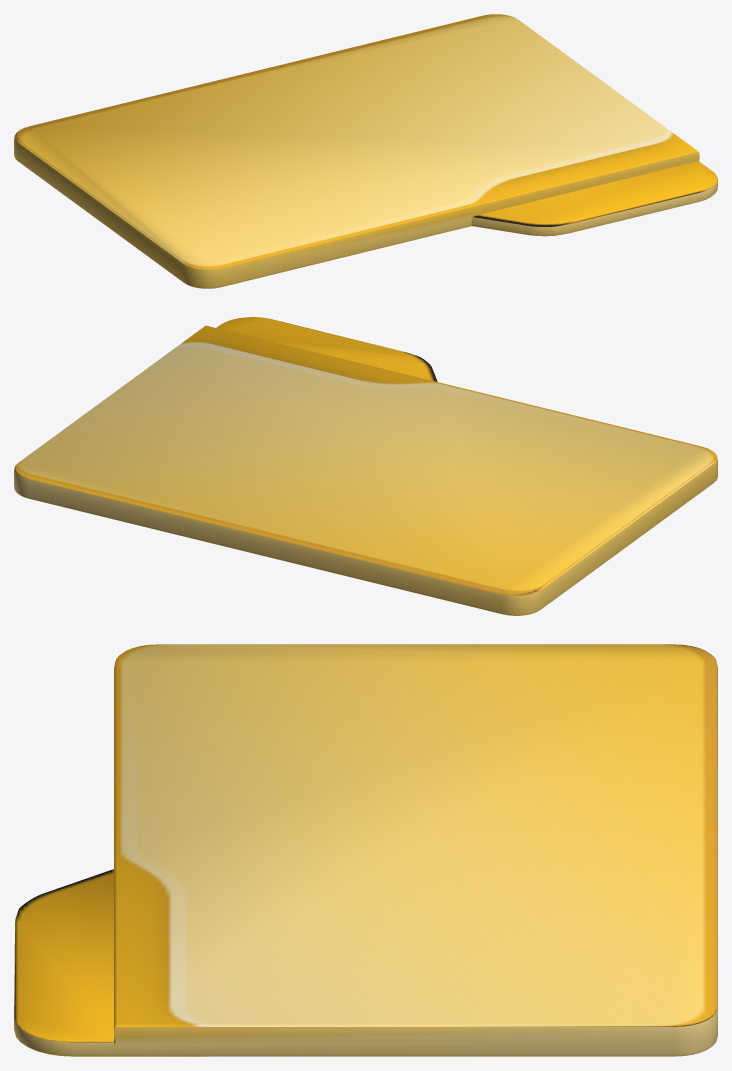
File: Papka.fbx
3 views of the same model, one above another, from view 1: azimuth 30°, elevation 25°; view 2: azimuth 150°, elevation 25°; view 3: azimuth 270°, elevation 25° (orthographic). The views are drawn at different scales.
Parts seen in each view (by area): view 1: papka; view 2: papka; view 3: papka.
Part boxes in pixels (x1=…): papka: x1=14, y1=14, x2=717, y2=288; papka: x1=14, y1=317, x2=717, y2=615; papka: x1=14, y1=644, x2=717, y2=1056.
Size of the model in its own units: 188 by 7.33 by 146.
